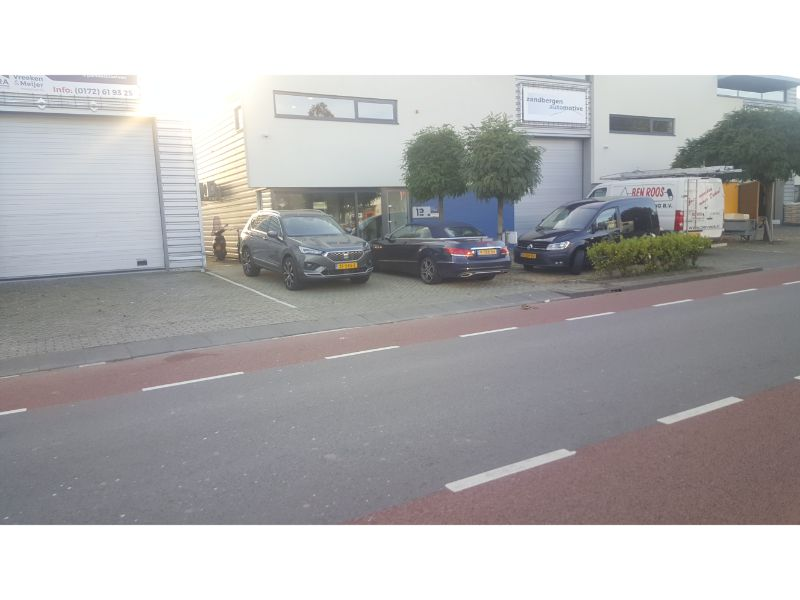kenteken: (334, 261, 360, 268), (475, 249, 501, 255), (520, 251, 538, 259)
